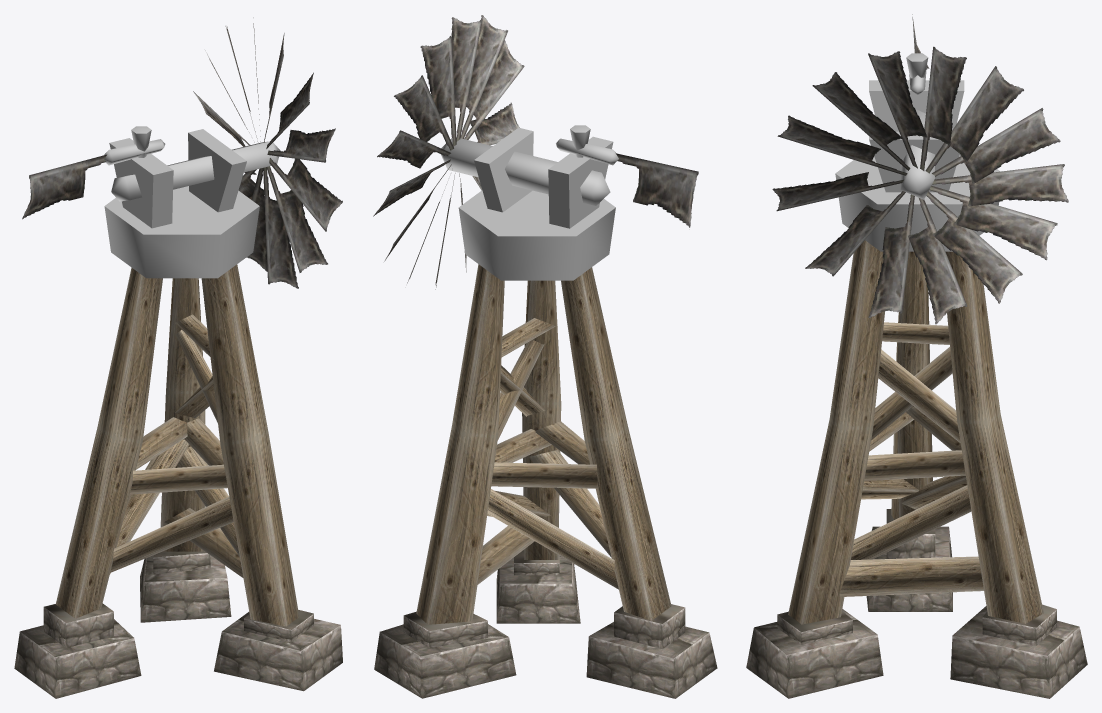
File: westfallwindmill.obj
3 views of the same model, side by side, from view 1: azimuth 30°, elevation 25°; view 2: azimuth 150°, elevation 25°; view 3: azimuth 270°, elevation 25° (orthographic). The views are drawn at different scales.
Parts seen in each view (by area): view 1: Geoset0, Geoset3, Geoset1, Geoset2; view 2: Geoset0, Geoset3, Geoset1, Geoset2; view 3: Geoset0, Geoset2, Geoset3, Geoset1.
Part boxes in pixels (left/top/right/bottom): Geoset0: left=55, top=264, right=299, bottom=626; Geoset3: left=14, top=551, right=342, bottom=698; Geoset1: left=104, top=126, right=280, bottom=278; Geoset2: left=22, top=17, right=342, bottom=288; Geoset0: left=416, top=264, right=671, bottom=624; Geoset3: left=374, top=549, right=717, bottom=698; Geoset1: left=440, top=125, right=618, bottom=280; Geoset2: left=373, top=15, right=698, bottom=289; Geoset0: left=788, top=240, right=1043, bottom=624; Geoset2: left=772, top=14, right=1068, bottom=324; Geoset3: left=746, top=509, right=1087, bottom=698; Geoset1: left=835, top=53, right=1000, bottom=251.
Size of the model in its own units: 10.54 by 23.37 by 11.22.
